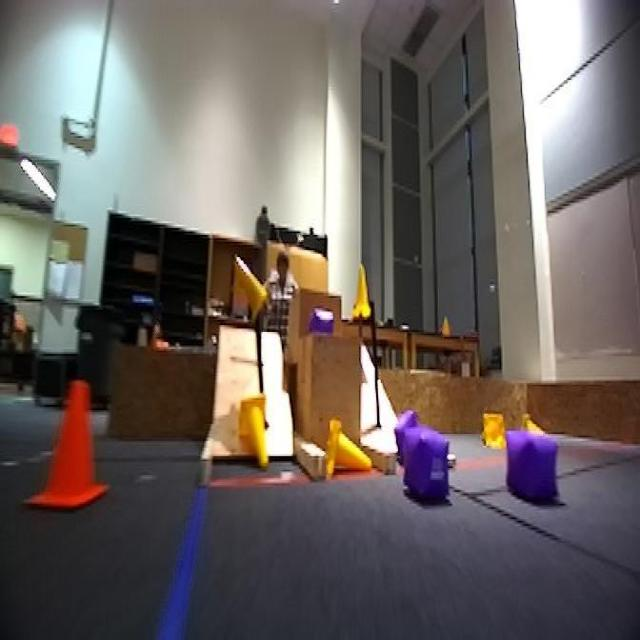frc_cone: (320, 417, 374, 485), (232, 396, 274, 469), (236, 261, 274, 325), (354, 262, 374, 322), (480, 410, 506, 451), (521, 414, 552, 444)
frc_cube: (499, 407, 568, 514), (396, 414, 455, 504), (312, 306, 338, 336)
